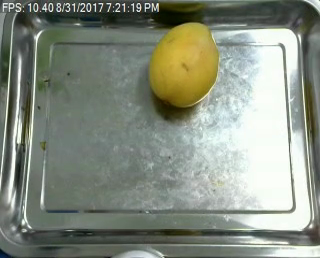Mango: (148, 20, 218, 105)
